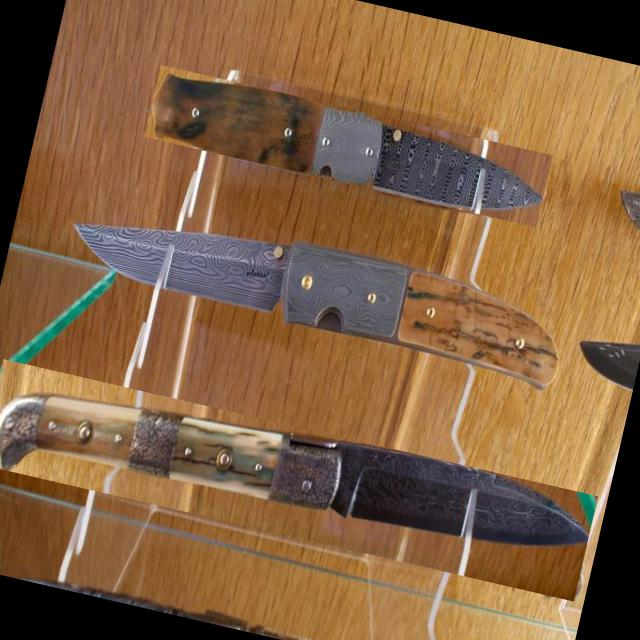Knife: (0, 396, 588, 546), (75, 224, 556, 387), (153, 75, 542, 210)
